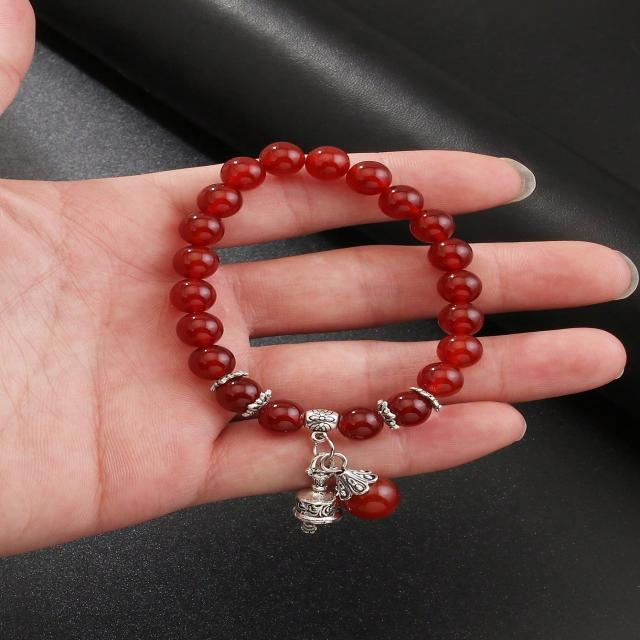bracelet: (68, 70, 606, 546)
